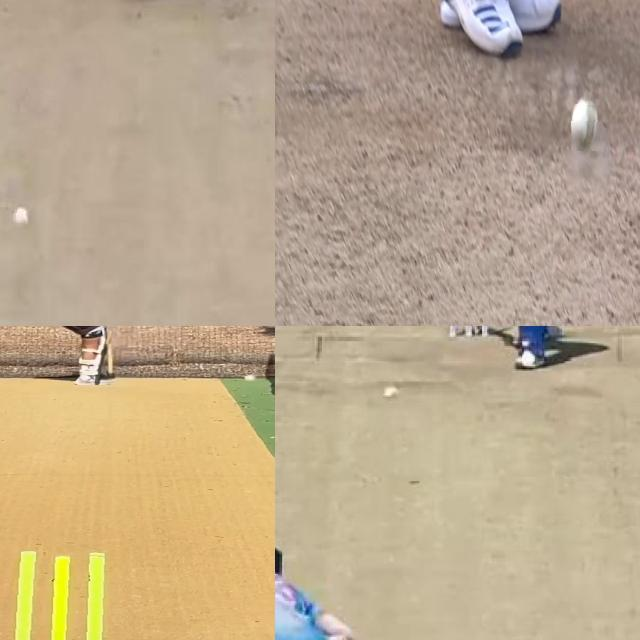Cricket ball: (572, 95, 602, 151), (12, 204, 32, 229), (383, 384, 400, 400)
Stumps: (3, 551, 131, 640)
